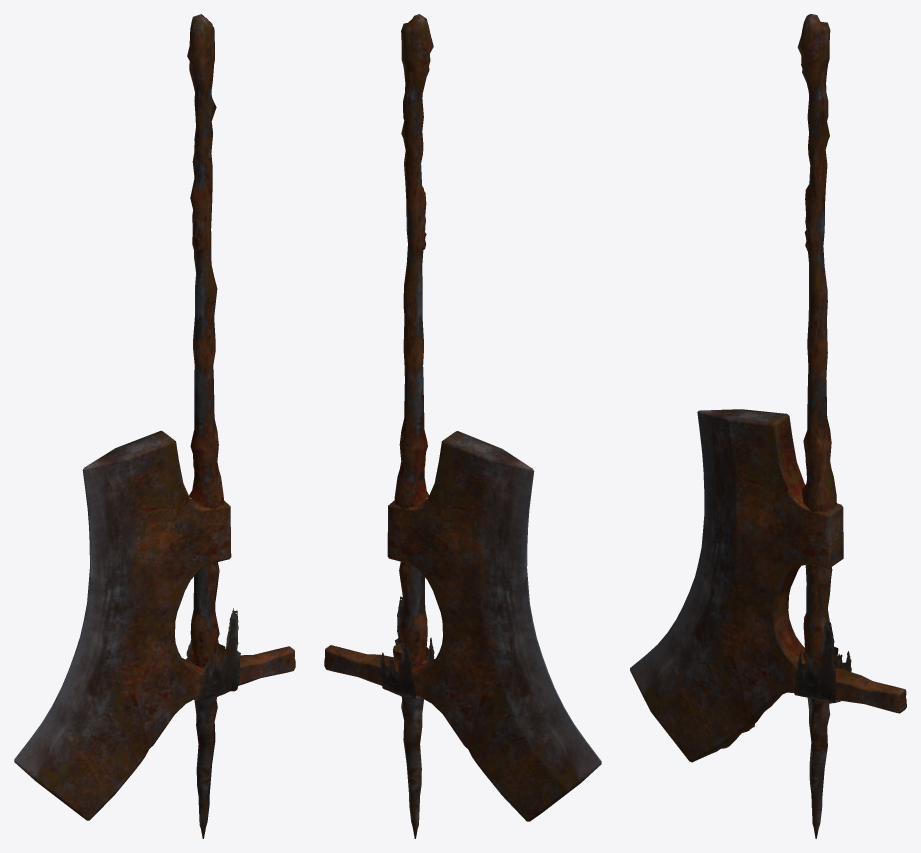
Rendered from weapon-wp_a_0758.glb.
3 renders of one model, left to right at view 1: azimuth 30°, elevation 25°; view 2: azimuth 150°, elevation 25°; view 3: azimuth 330°, elevation 25°, orthographic.
Visible parts, largest first — view 1: wp_a_0758_mesh; view 2: wp_a_0758_mesh; view 3: wp_a_0758_mesh.
Part boxes in pixels (<box>): wp_a_0758_mesh: <box>14,14,295,838</box>; wp_a_0758_mesh: <box>324,14,601,838</box>; wp_a_0758_mesh: <box>630,14,906,838</box>.
Bounding box in the file's own units: 0.703 × 2 × 0.1003.
1 material, 1 textured.
